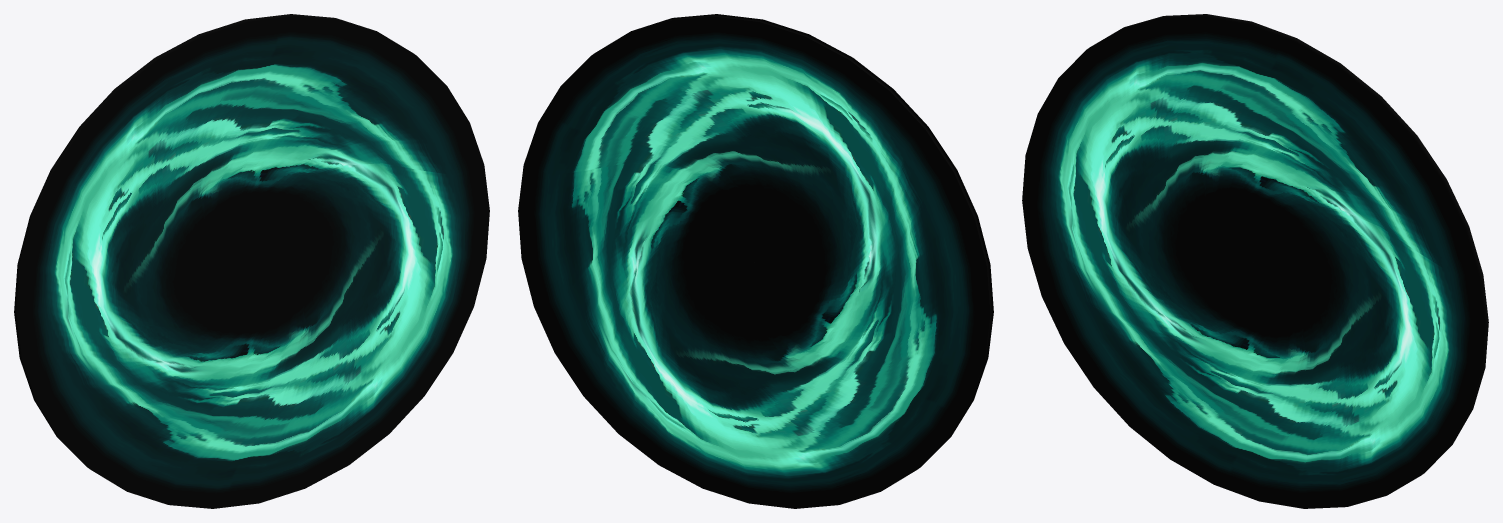
Rendered from Portal.fbx.
3 views of the same model, side by side, from view 1: azimuth 30°, elevation 25°; view 2: azimuth 150°, elevation 25°; view 3: azimuth 330°, elevation 25° (orthographic).
Parts seen in each view (by area): view 1: Circle_Rings; view 2: Circle_Rings; view 3: Circle_Rings.
Part boxes in pixels (left/top/right/bottom): Circle_Rings: left=14, top=14, right=489, bottom=508; Circle_Rings: left=518, top=14, right=993, bottom=508; Circle_Rings: left=1022, top=14, right=1488, bottom=508.
Size of the model in its own units: 755 by 739 by 9.38.
